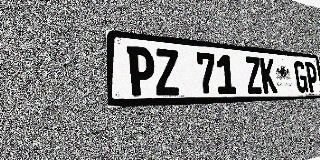1: (215, 54, 236, 94)
7: (195, 52, 218, 95)
G: (293, 61, 308, 93)
K: (260, 58, 277, 93)
P: (127, 46, 156, 96), (305, 62, 319, 92)
Z: (154, 48, 181, 96), (244, 56, 263, 94)
